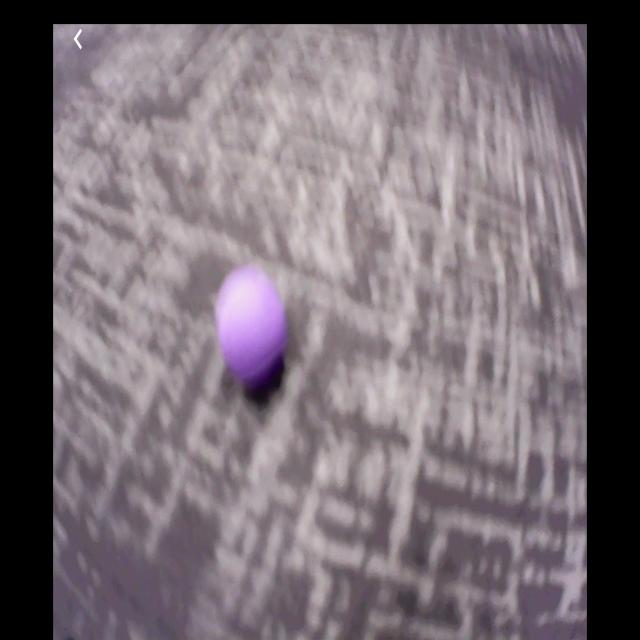ball: (217, 269, 288, 381)
